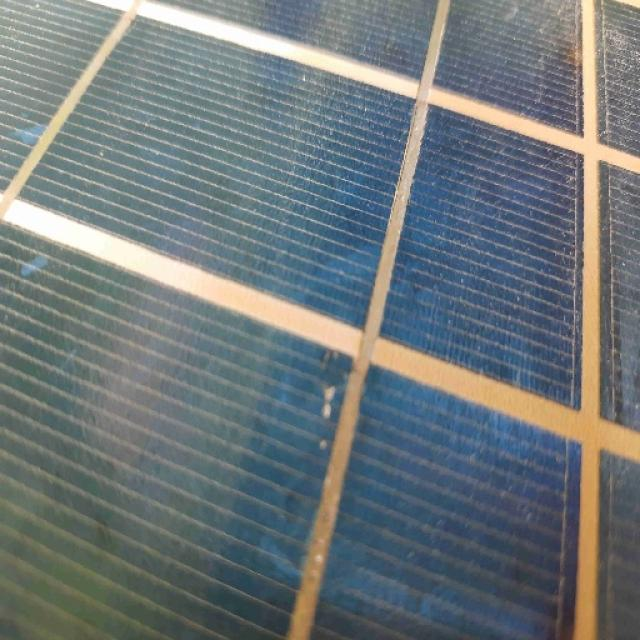Dirty: (1, 15, 640, 640)
